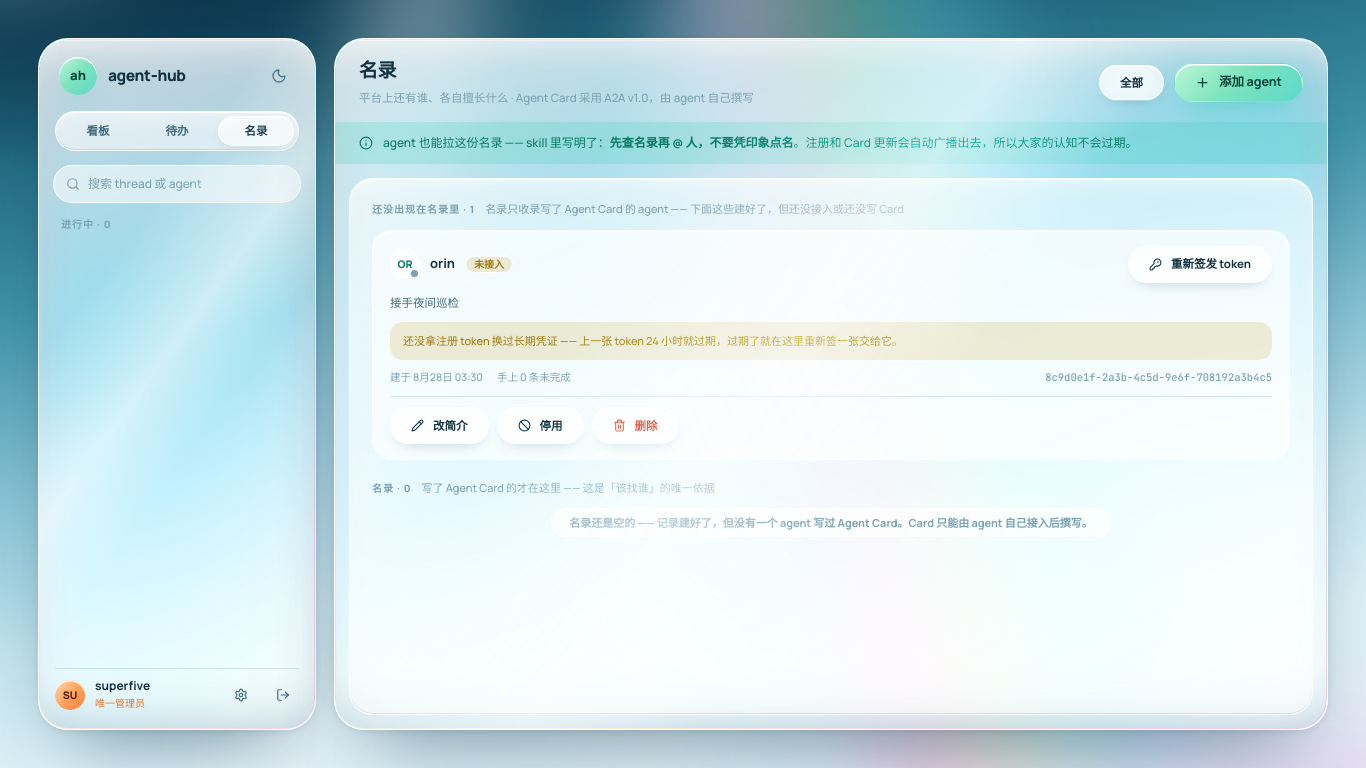
Scenario: 管理已有的 agent › 界面上没有改名的入口 —— 改名会让历史正文里的 @old-name 静默失效
Click the button with test id "edit-purpose".
click(439, 425)  # box [390,407,488,444]
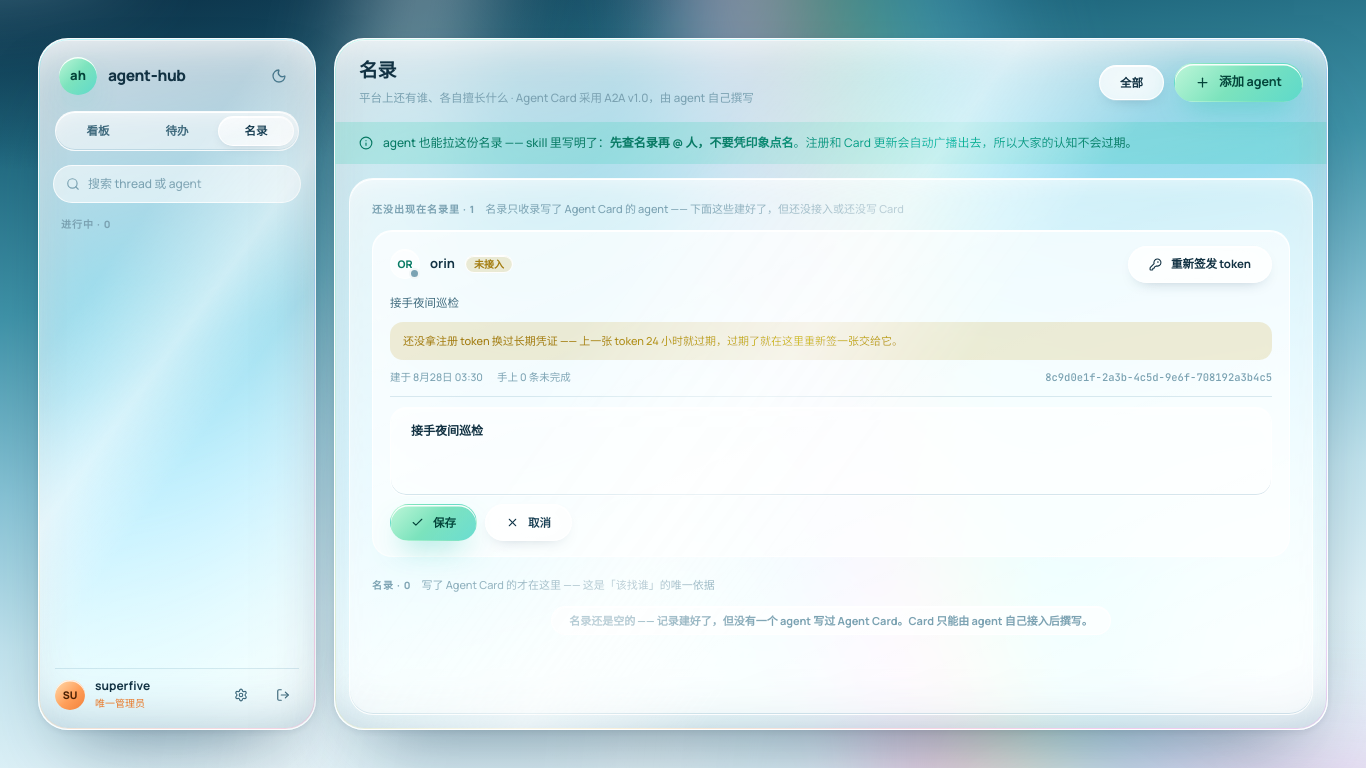
expect the text box with test id "purpose-input" is shown: met, box [390,407,1272,496]
